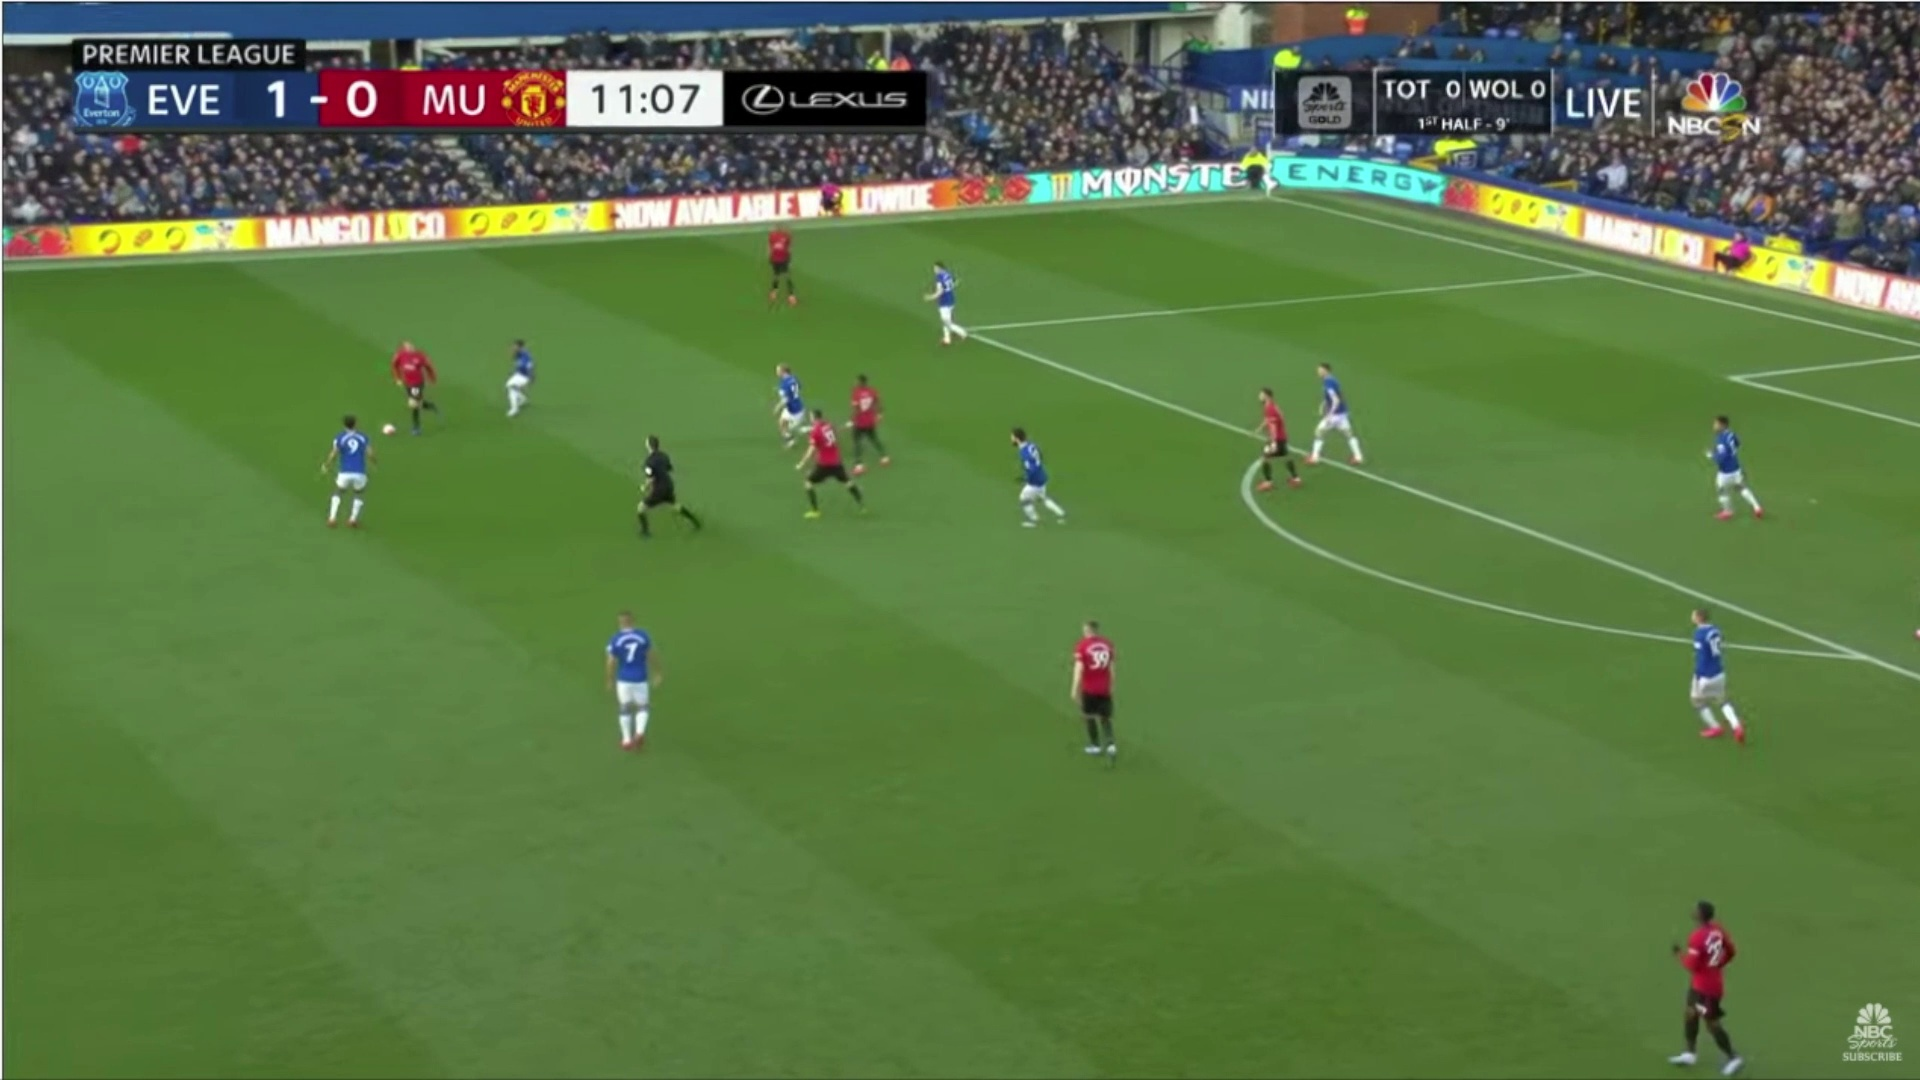ball: (374, 413, 404, 450)
player: (1650, 879, 1762, 1067), (1658, 596, 1760, 738), (1052, 606, 1143, 765), (587, 602, 675, 754), (1689, 390, 1779, 529), (985, 421, 1077, 538), (304, 408, 381, 542), (1293, 350, 1374, 465), (1237, 383, 1310, 506), (795, 408, 866, 529), (904, 252, 983, 358), (747, 206, 818, 319), (835, 348, 900, 467), (489, 319, 554, 425), (389, 337, 452, 433), (754, 352, 812, 454)
